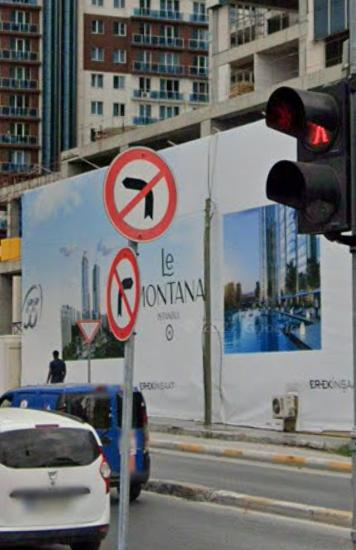leftturnsareforbidden: (106, 149, 178, 233)
rightturnsareforbidden: (109, 250, 143, 336)
